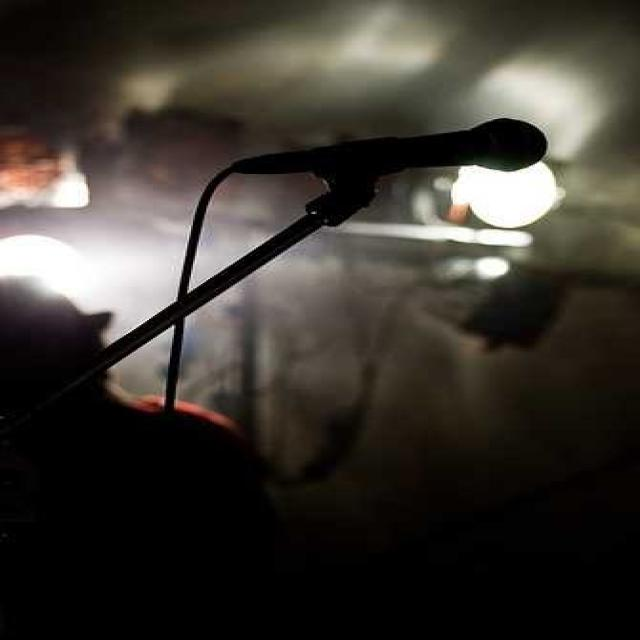microphone: (234, 116, 548, 182)
